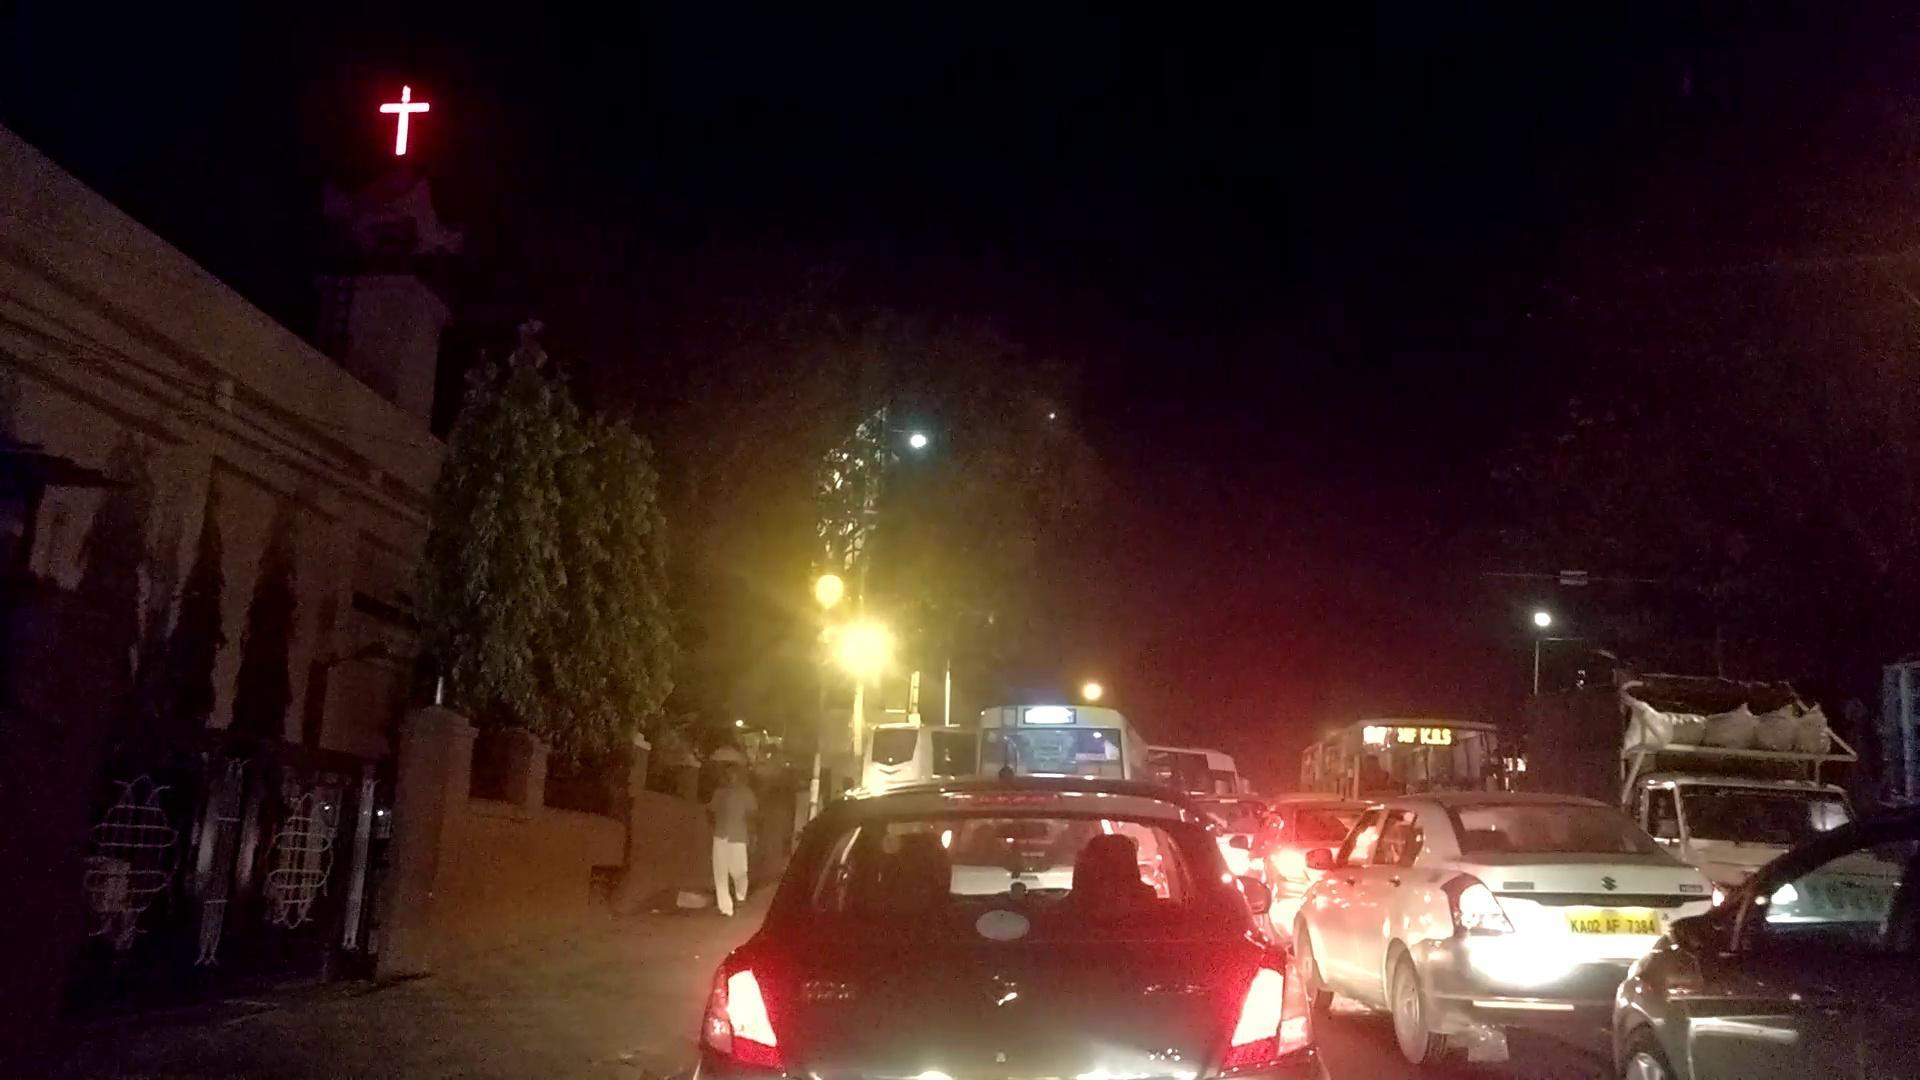on: (690, 483, 1143, 819)
